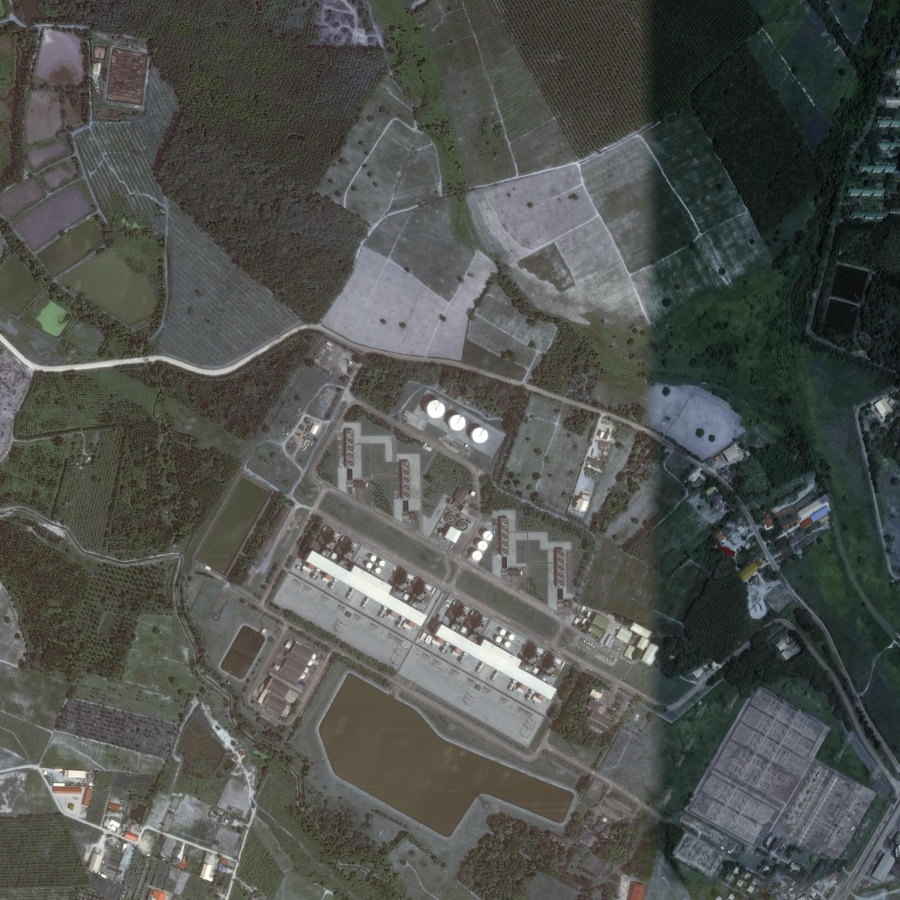PowerPlant: (223, 386, 677, 844)
